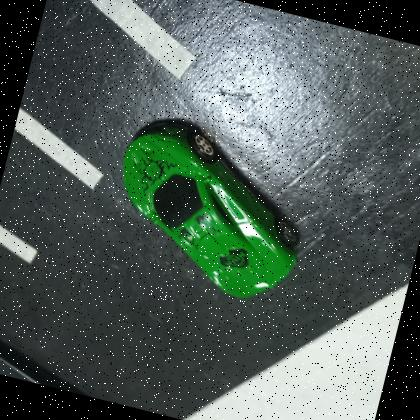Car: (122, 118, 297, 298)
